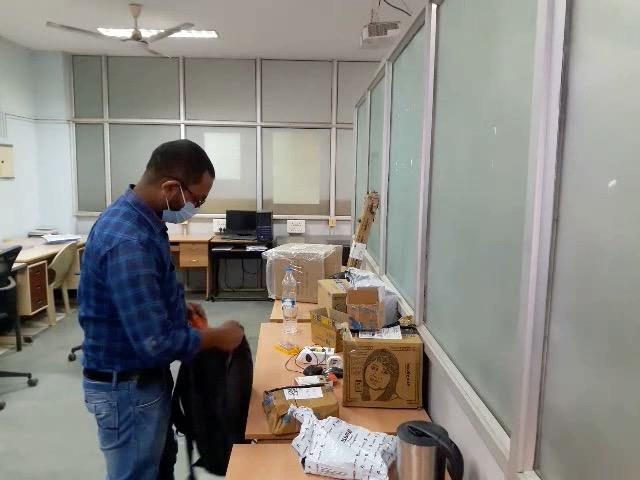shoplifting: (72, 277, 328, 414)
